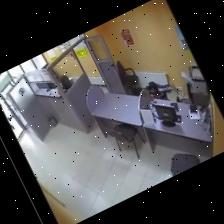person: (147, 82, 167, 100)
